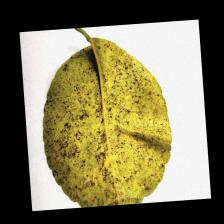canker: (60, 82, 150, 171)
